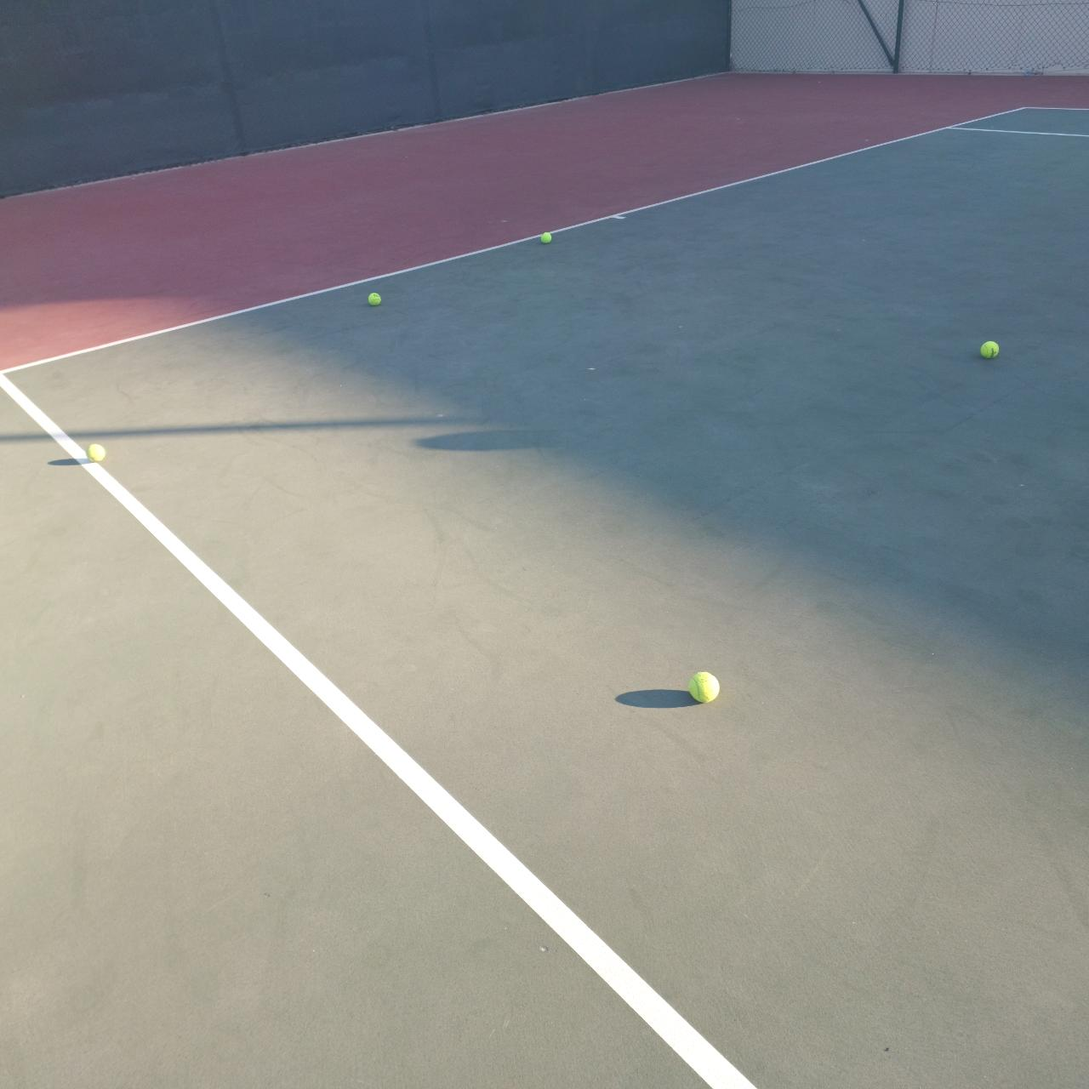tennis-ball: (687, 668, 720, 704), (978, 338, 999, 359), (85, 441, 105, 463), (366, 289, 380, 305), (539, 230, 552, 244)
